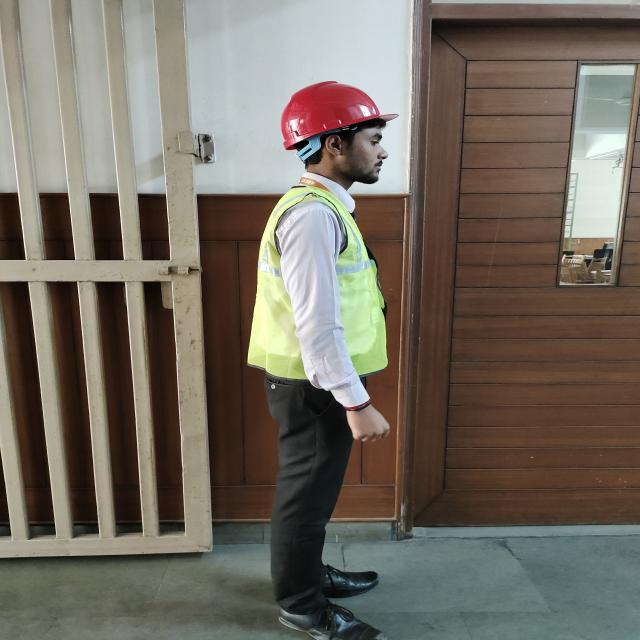safe: (245, 80, 399, 640)
